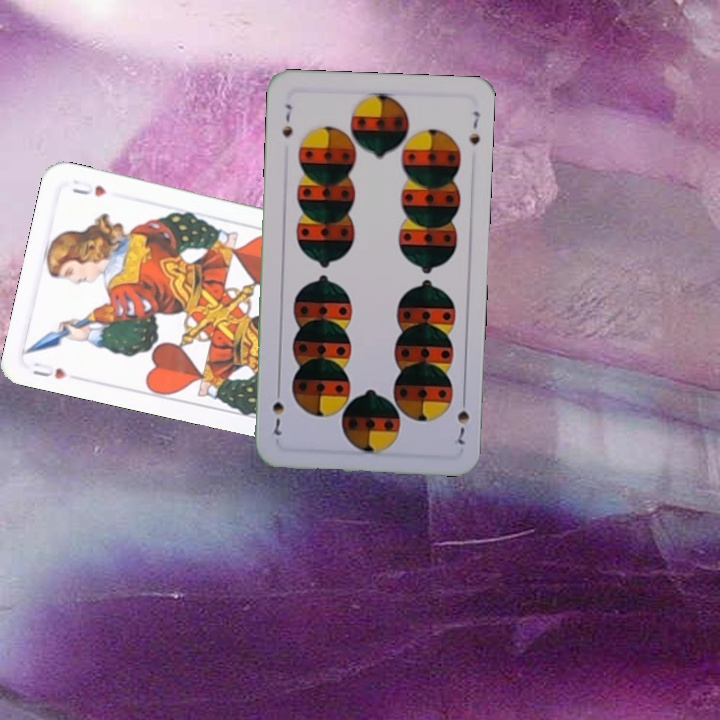HU: (28, 358, 70, 382)
S7: (453, 391, 472, 447), (278, 100, 295, 140)
